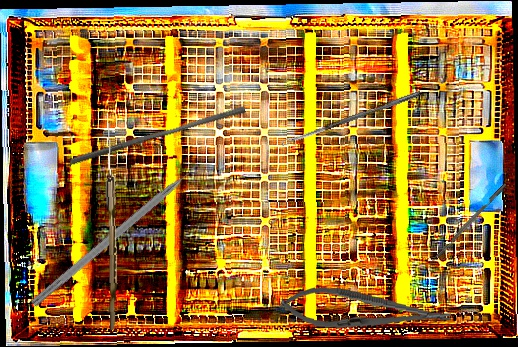Chopper: (28, 155, 217, 318), (424, 183, 511, 272)
Needle Holder: (279, 282, 453, 340)
Pusher: (68, 99, 247, 173)
Surgical Spoon: (280, 89, 422, 147), (102, 122, 121, 330)
